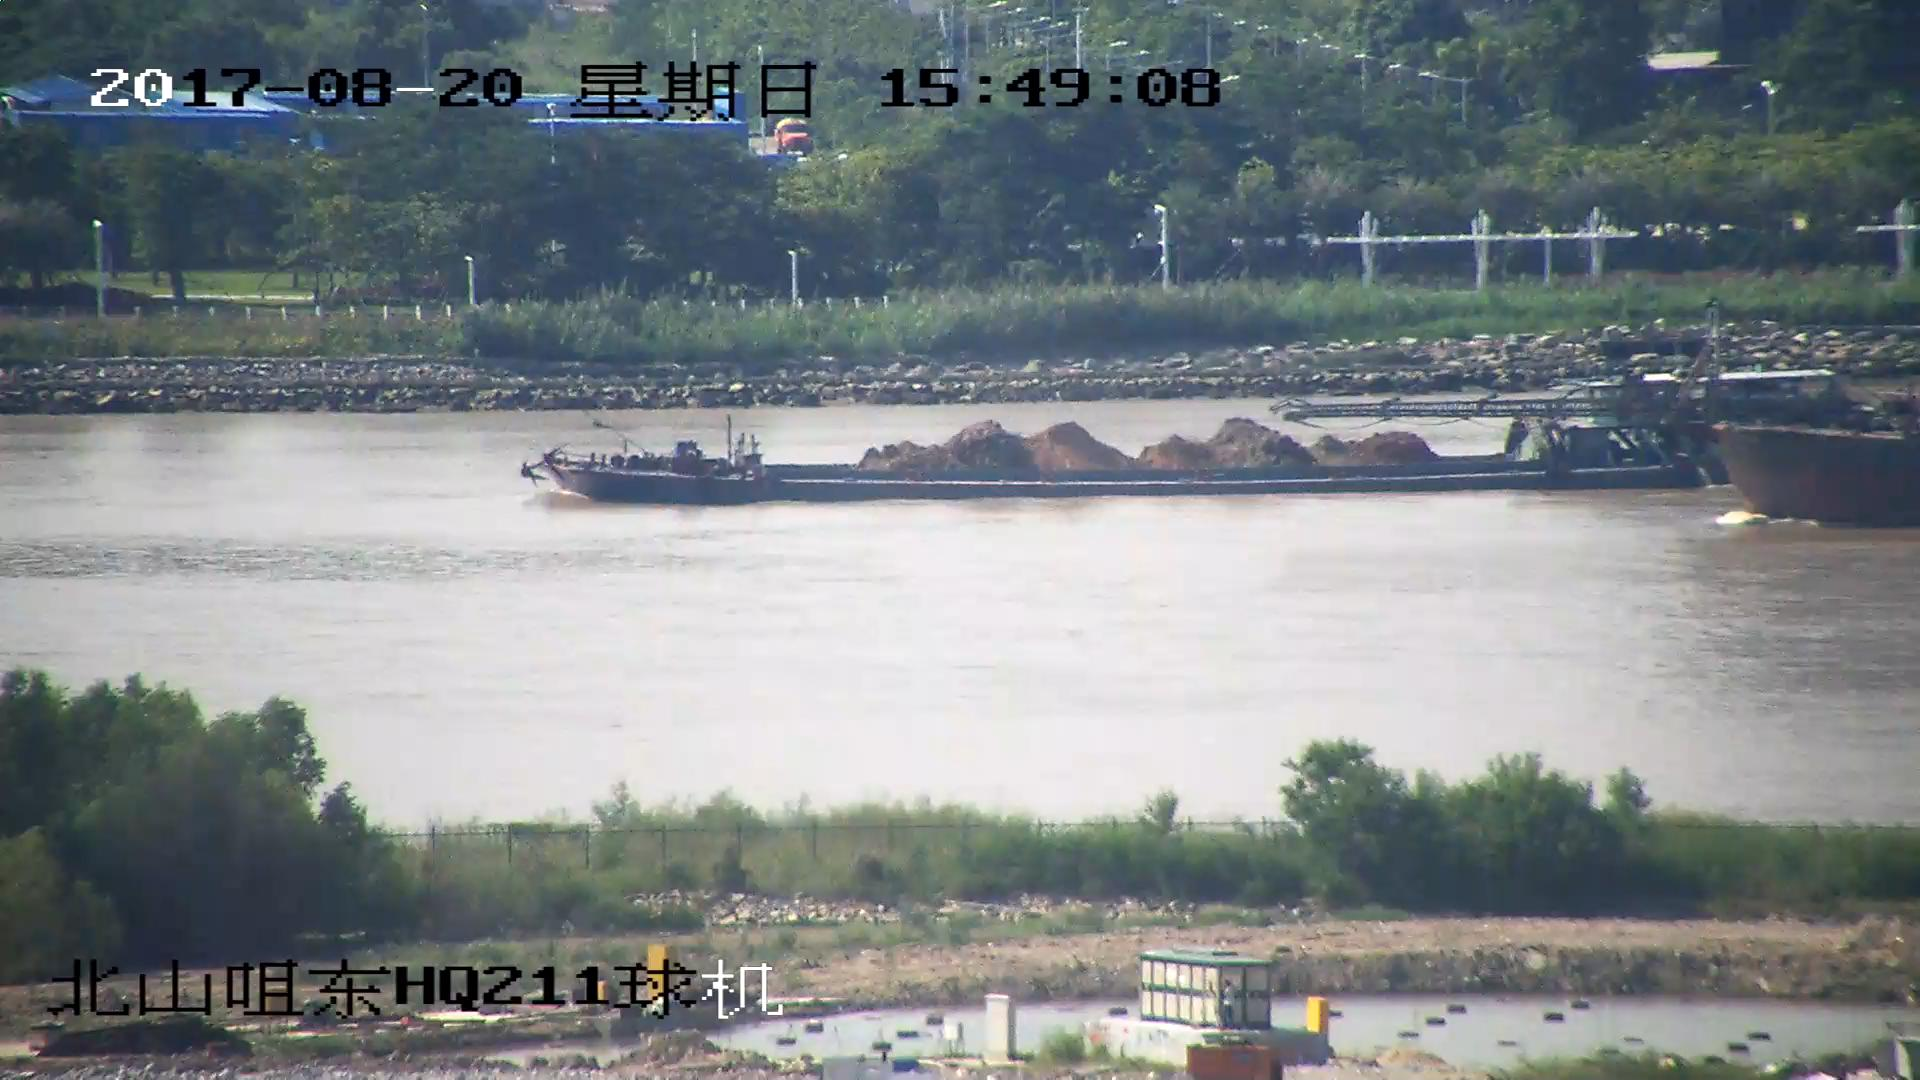bulk cargo carrier: (1289, 320, 1920, 531)
ore carrier: (527, 358, 1865, 508)
